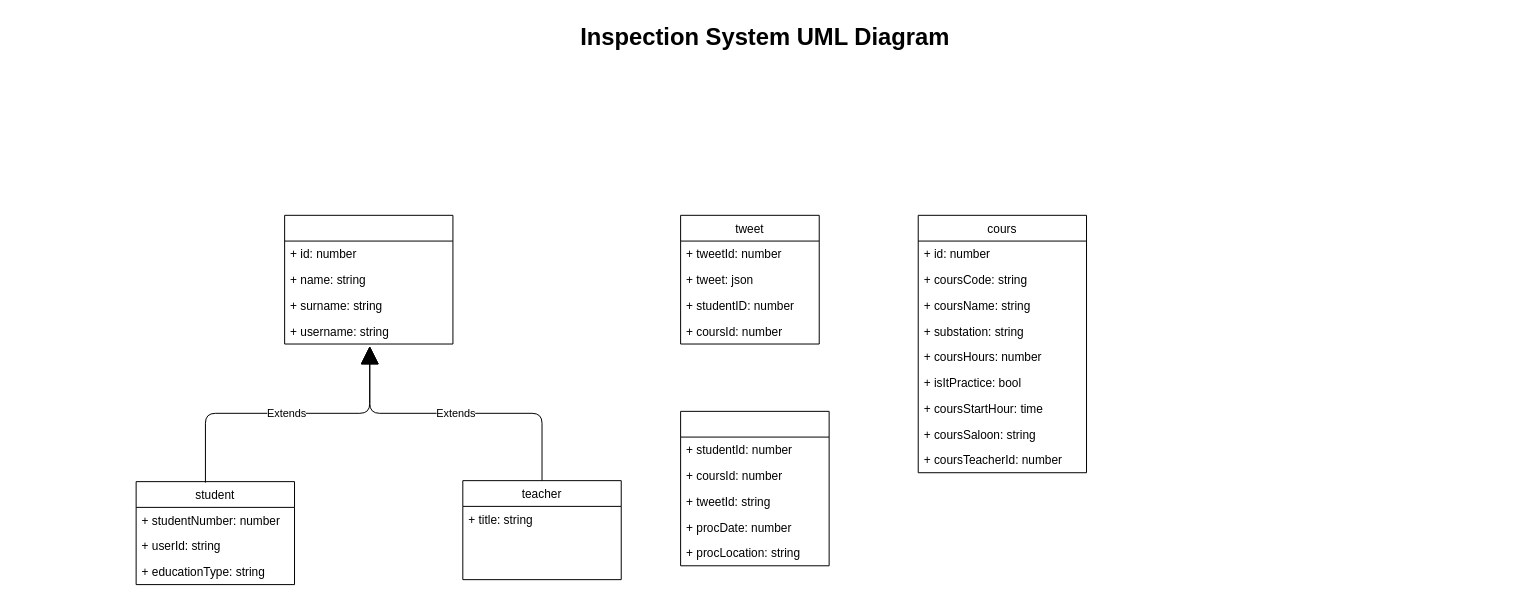
This 1529x604 diagram has some shape labels left out. Here are the shapes that lost their labels. From the top down, the box of each, then its label:
(284, 214, 453, 344): person
(680, 410, 829, 566): devamsızlık
